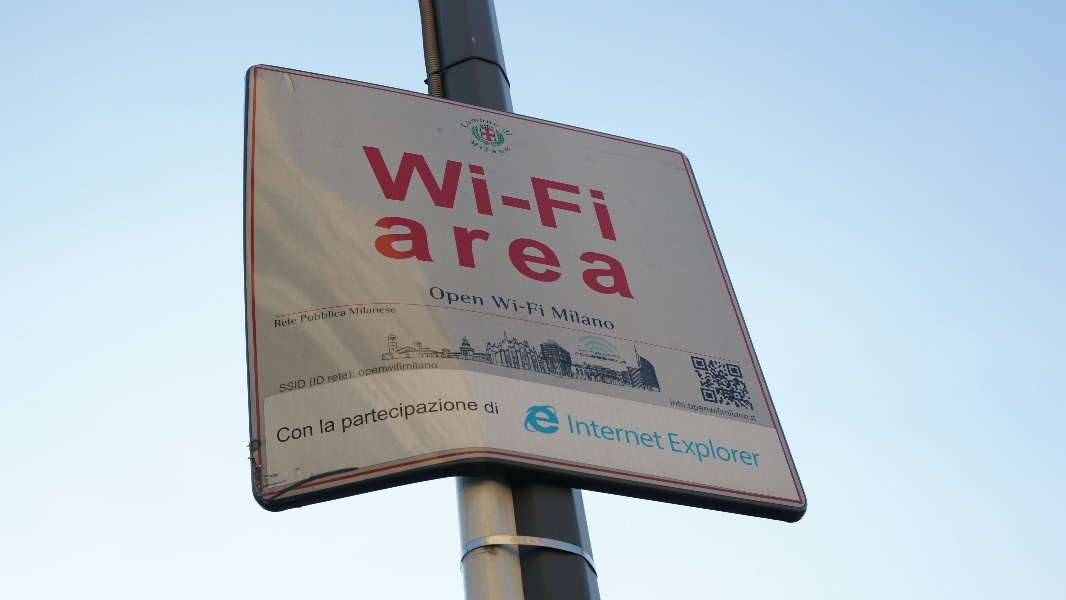text: (369, 143, 384, 245), (385, 143, 400, 245), (401, 143, 416, 245), (417, 143, 432, 245), (433, 143, 448, 245), (449, 143, 464, 245), (465, 143, 480, 245), (481, 143, 496, 245), (497, 143, 512, 245), (513, 143, 528, 245), (529, 143, 544, 245), (545, 143, 560, 245), (561, 143, 576, 245), (577, 143, 592, 245), (593, 143, 608, 245), (385, 209, 400, 306), (401, 209, 416, 306), (417, 209, 432, 306), (433, 209, 448, 306), (449, 209, 464, 306), (465, 209, 480, 306), (481, 209, 496, 306), (497, 209, 512, 306), (513, 209, 528, 306), (529, 209, 544, 306), (545, 209, 560, 306), (561, 209, 576, 306), (577, 209, 592, 306), (593, 209, 608, 306), (609, 209, 624, 306), (625, 209, 638, 306), (609, 143, 620, 245), (359, 143, 368, 245), (353, 383, 368, 435), (369, 383, 384, 435), (385, 383, 400, 435), (401, 383, 416, 435), (417, 383, 432, 435), (433, 383, 448, 435), (449, 383, 464, 435), (465, 383, 480, 435), (341, 383, 352, 435), (577, 414, 592, 452), (593, 414, 608, 452), (609, 414, 624, 452), (625, 414, 640, 452), (641, 414, 656, 452), (673, 432, 688, 469), (689, 432, 704, 469), (705, 432, 720, 469), (721, 432, 736, 469), (737, 432, 752, 469), (561, 306, 576, 332), (577, 306, 592, 332), (593, 306, 608, 332), (753, 432, 763, 469), (529, 295, 545, 318), (673, 399, 688, 423), (689, 399, 704, 423), (705, 399, 720, 423), (721, 399, 736, 423), (737, 399, 752, 423), (497, 295, 512, 318), (513, 295, 528, 318), (567, 414, 576, 452), (657, 414, 666, 452), (433, 286, 448, 307), (449, 286, 464, 307), (465, 286, 480, 307), (481, 139, 496, 159), (497, 139, 512, 159), (369, 358, 384, 378), (385, 358, 400, 378), (401, 358, 416, 378), (417, 358, 432, 378), (381, 209, 384, 306), (289, 425, 304, 444), (550, 306, 560, 332), (321, 419, 336, 435), (609, 306, 618, 332), (276, 425, 288, 444), (289, 378, 304, 393), (305, 309, 320, 324), (321, 309, 336, 324), (483, 400, 496, 417), (481, 115, 496, 129), (337, 370, 352, 384), (358, 358, 368, 378), (466, 115, 480, 129), (577, 352, 592, 365), (593, 352, 608, 365), (609, 352, 624, 365), (667, 432, 672, 469), (305, 425, 314, 444), (753, 399, 760, 423), (353, 305, 368, 316), (369, 305, 384, 316), (489, 295, 496, 318), (274, 317, 288, 328), (309, 375, 320, 388), (385, 305, 398, 316), (279, 378, 288, 393), (337, 309, 346, 324), (474, 139, 480, 159), (329, 370, 336, 384), (609, 353, 622, 360), (289, 317, 297, 328), (433, 358, 437, 378), (669, 399, 672, 423), (481, 286, 484, 307), (593, 350, 603, 356), (300, 309, 304, 324), (321, 375, 325, 388), (579, 348, 592, 352), (497, 400, 500, 417), (497, 115, 500, 129), (507, 128, 512, 136), (513, 139, 515, 159), (625, 352, 628, 365), (603, 353, 608, 360), (349, 305, 352, 316), (353, 370, 355, 384), (431, 286, 432, 307), (589, 350, 592, 356), (513, 128, 515, 136), (305, 378, 306, 393)
